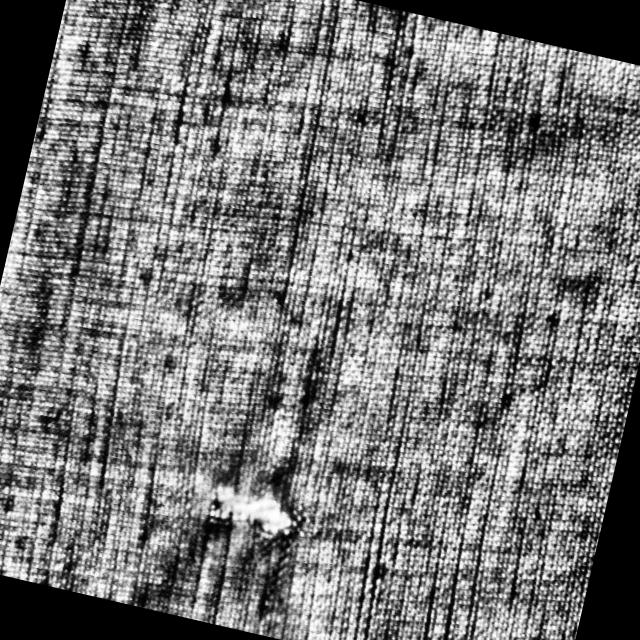cut: (200, 476, 314, 556)
